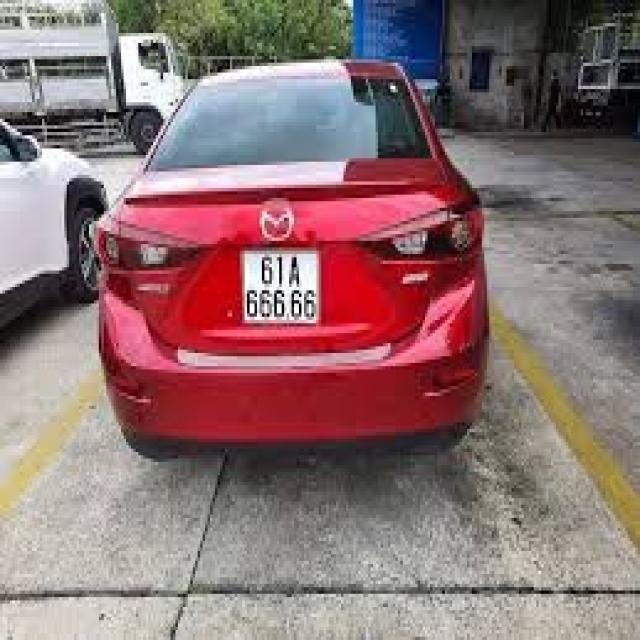bien_so: (235, 244, 329, 342)
